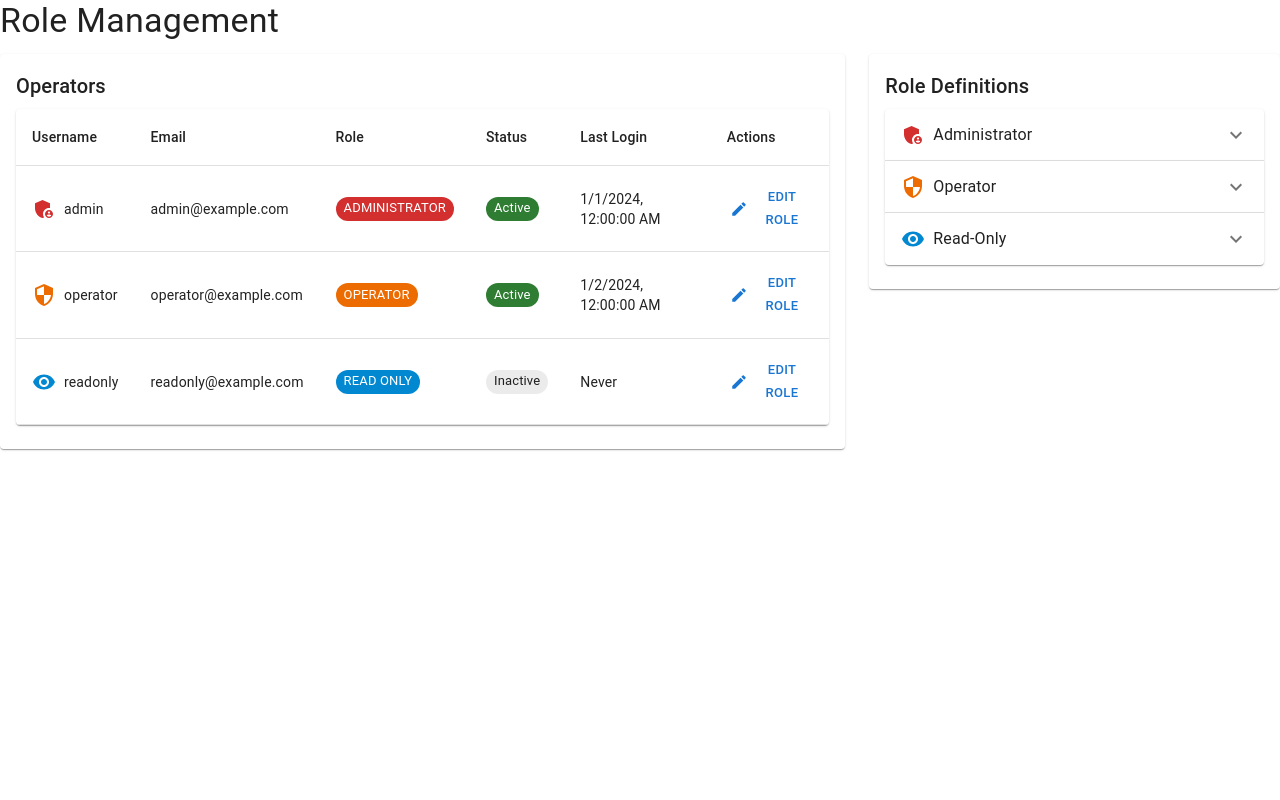
Test case: RoleManagement › should close edit dialog when cancel is clicked
expect the text "admin" is shown: met, box [32,197,104,221]
Open edit dialog
Click the button "Edit Role" in the row of "admin@example.com" at (770, 209), box [727,182,813,235]
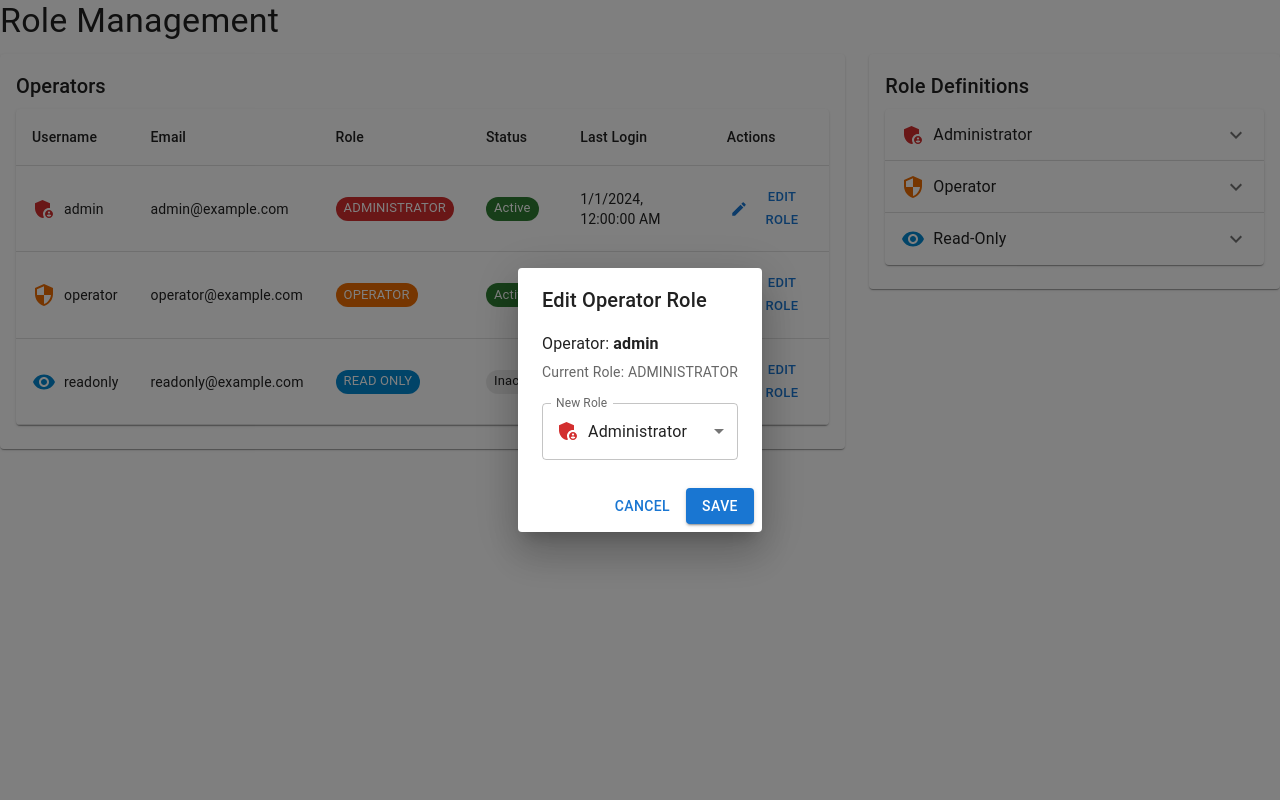
expect the heading "Edit Operator Role" is shown: met, box [542,288,707,312]
Click the button "Cancel" at (642, 506), box [607,488,678,524]
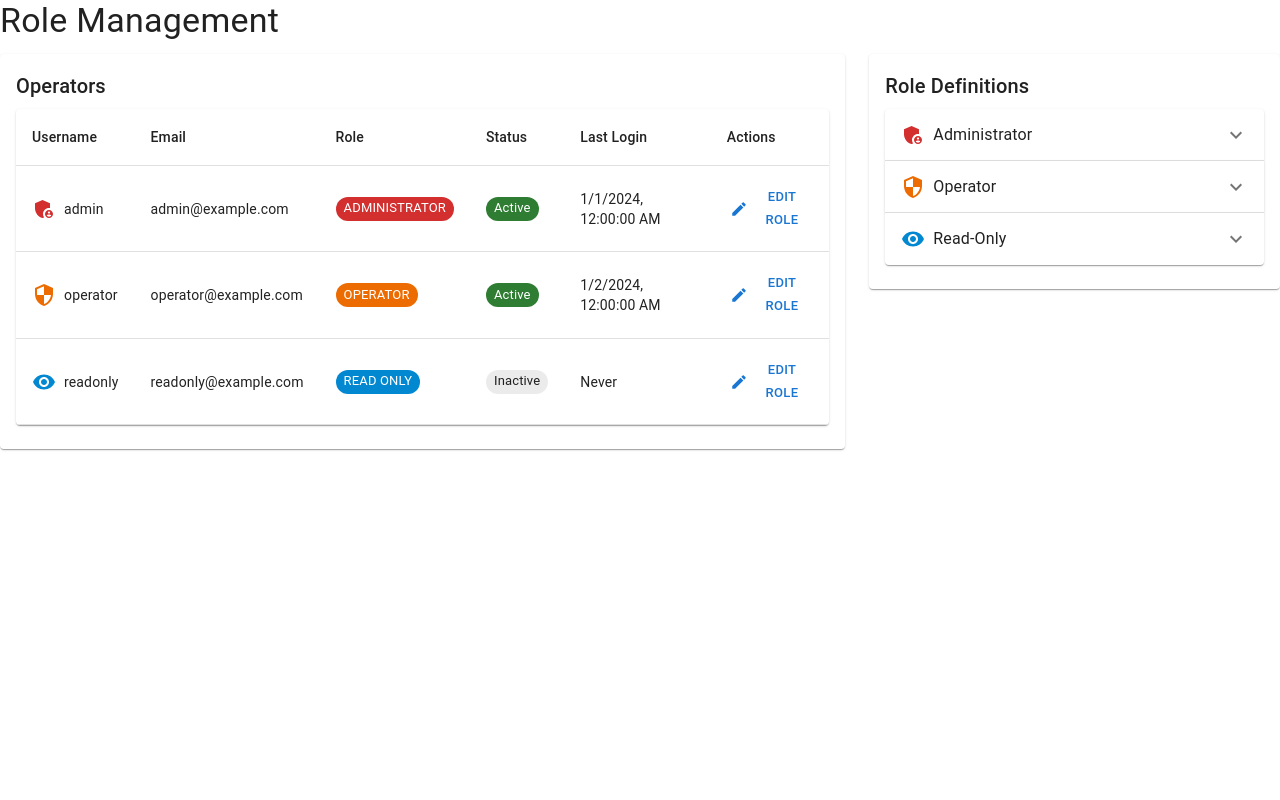
expect the heading "Edit Operator Role" is gone: met
